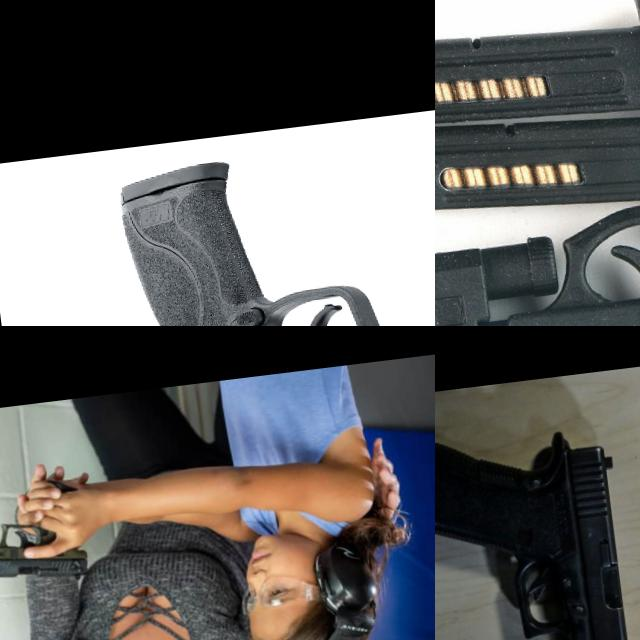handgun: (113, 125, 435, 326), (435, 27, 640, 326), (435, 411, 640, 640), (0, 511, 93, 598)
